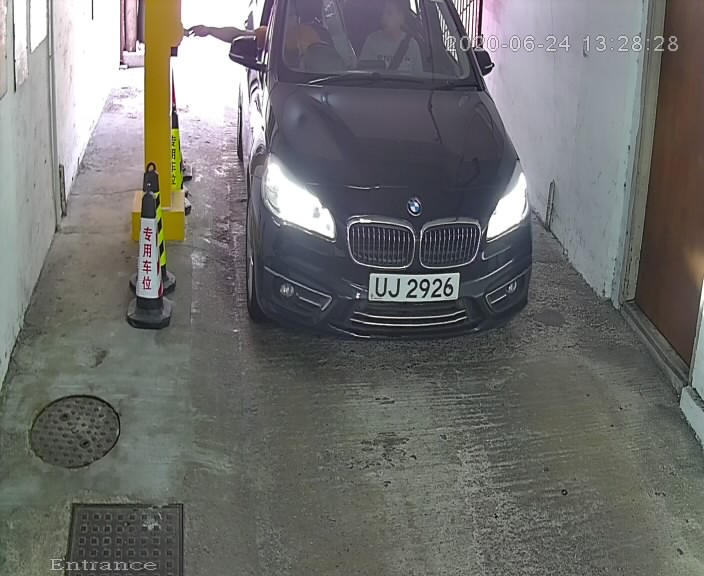Car: (221, 1, 546, 358)
License Plate: (361, 268, 467, 307)
